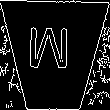M_S: (32, 30, 76, 81)
